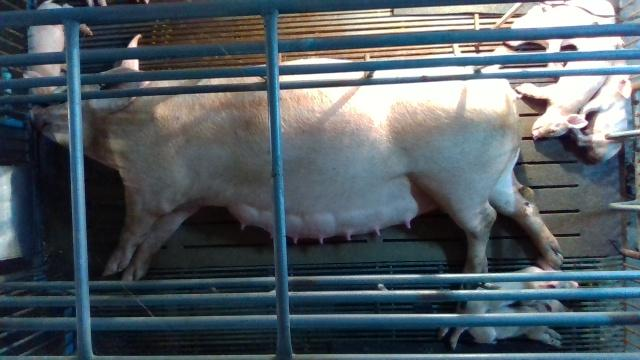piglet: (438, 266, 580, 351), (516, 46, 612, 141), (10, 0, 93, 106), (565, 60, 639, 164), (503, 3, 625, 50), (467, 298, 575, 348)
sow-sleep-lactate: (32, 34, 565, 285)
